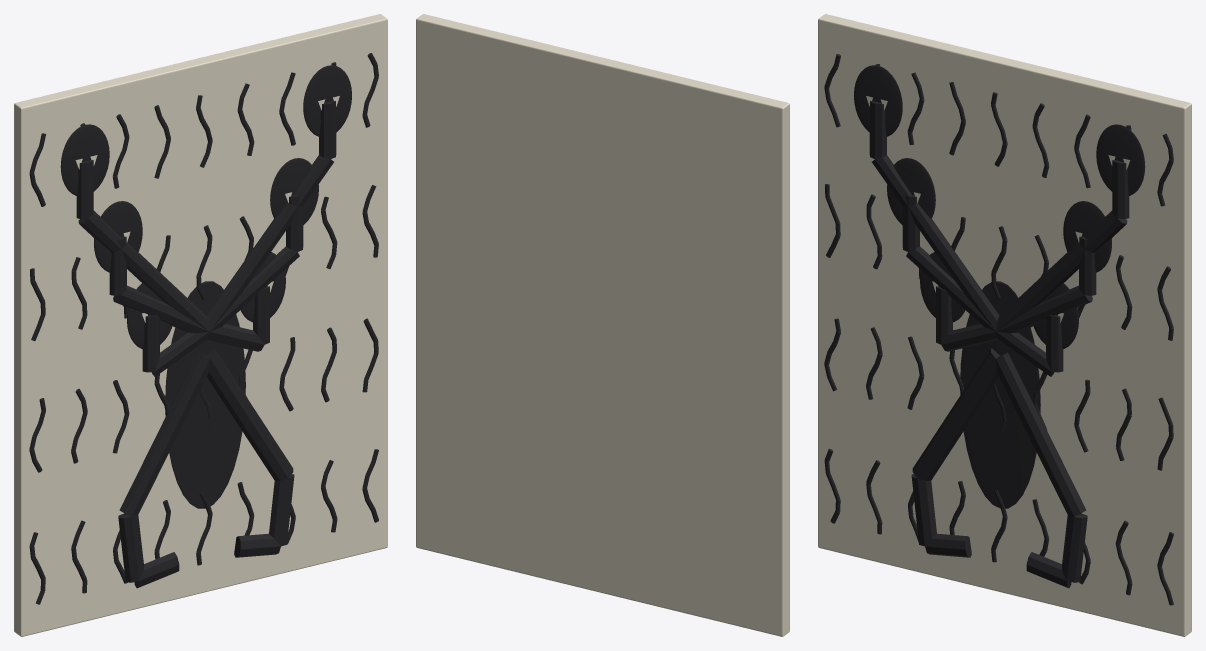
Rendered from linen-wall-art.glb.
The picture shows the model from 3 angles, left to right: view 1: azimuth 30°, elevation 25°; view 2: azimuth 150°, elevation 25°; view 3: azimuth 330°, elevation 25°; orthographic projection.
Parts seen in each view (by area): view 1: linen-wall-art; view 2: linen-wall-art; view 3: linen-wall-art.
Boxes of the visible parts, x1,y1,x2,y2 form: linen-wall-art: (14,14,387,636); linen-wall-art: (416,14,789,636); linen-wall-art: (818,14,1191,636).
Bounding box in the file's own units: 0.3 × 0.4131 × 0.018.
